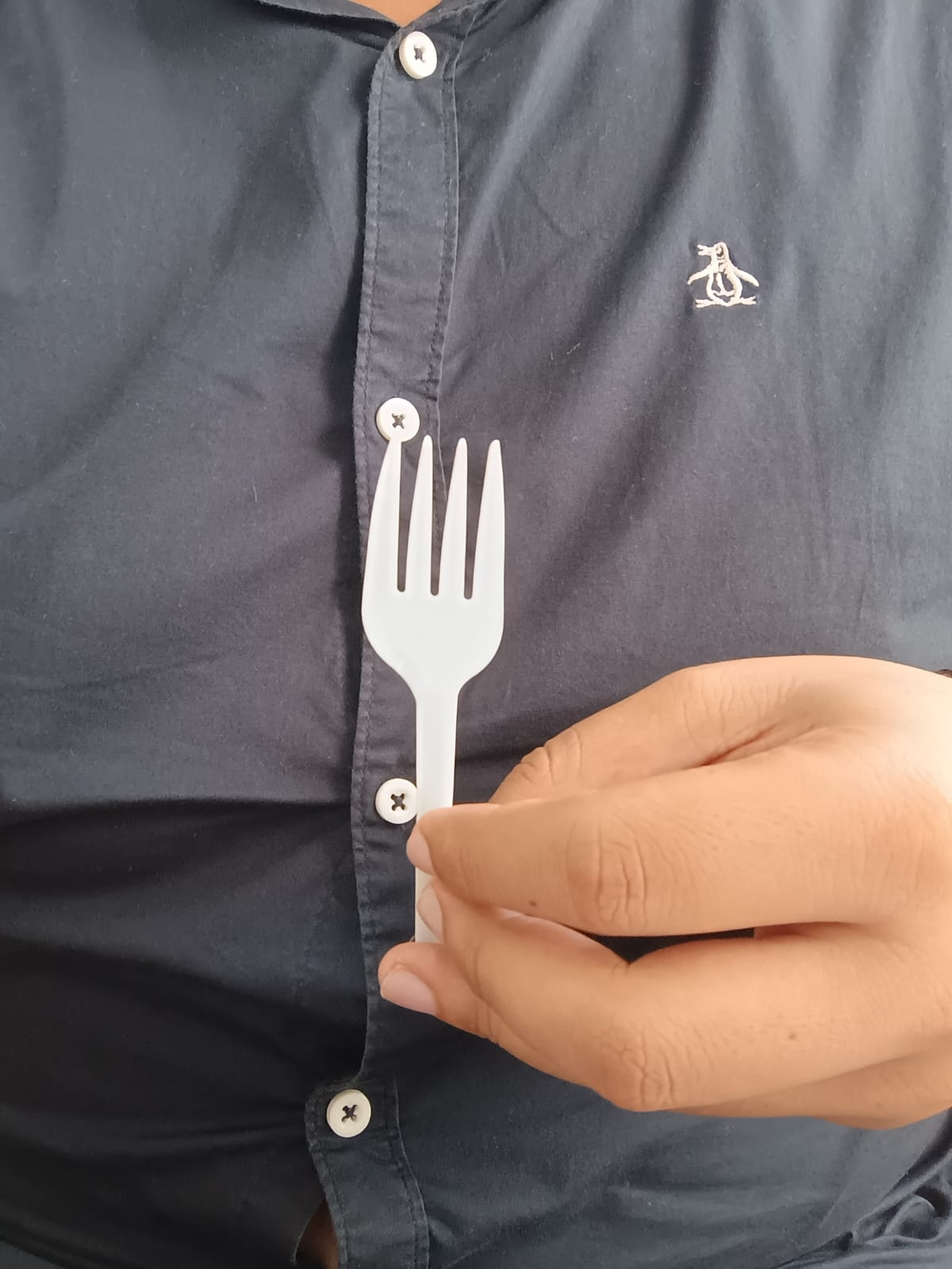Ordinario: (359, 439, 508, 897)
